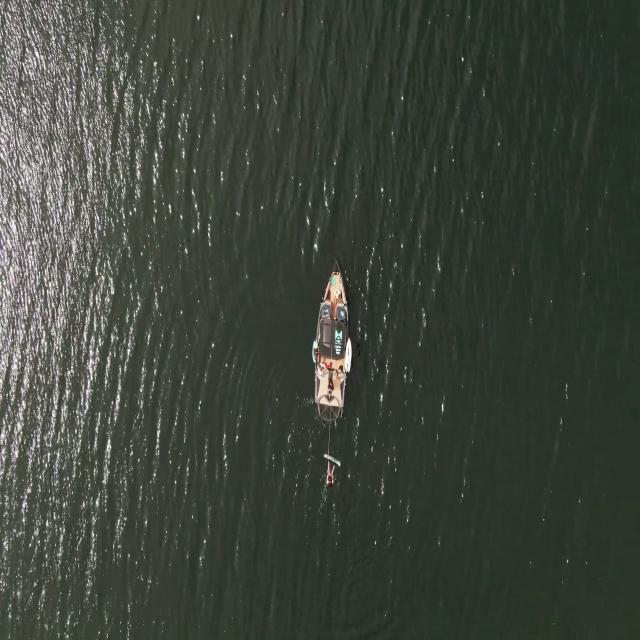ship: (314, 262, 349, 428), (345, 337, 353, 373)
